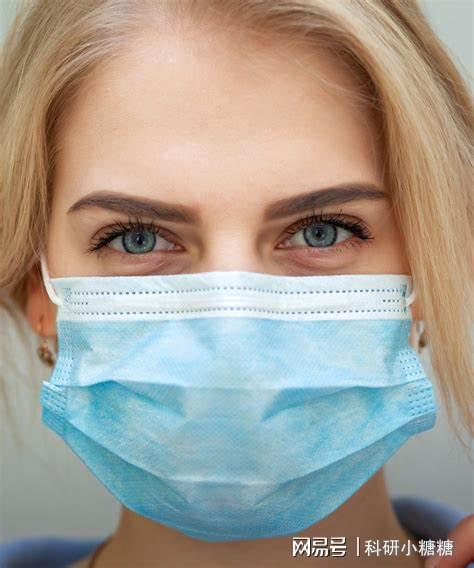mask: (41, 48, 443, 531)
